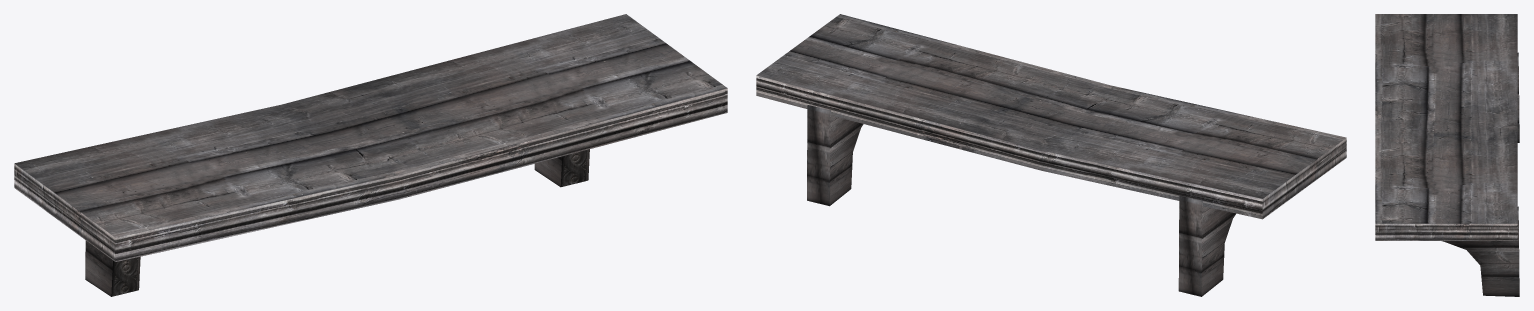
The model's file is tavern_shl3.fbx.
3 renders of one model, left to right at view 1: azimuth 30°, elevation 25°; view 2: azimuth 150°, elevation 25°; view 3: azimuth 270°, elevation 25°, orthographic. The views are drawn at different scales.
Visible parts, largest first — view 1: Default_Layer; view 2: Default_Layer; view 3: Default_Layer.
Part boxes in pixels (x1,y1,x2,y2): Default_Layer: [14, 14, 727, 296]; Default_Layer: [756, 14, 1346, 296]; Default_Layer: [1375, 14, 1519, 296].
Bounding box in the file's own units: 418 × 88.11 × 121.
Materials: 1 (1 with a texture image).
